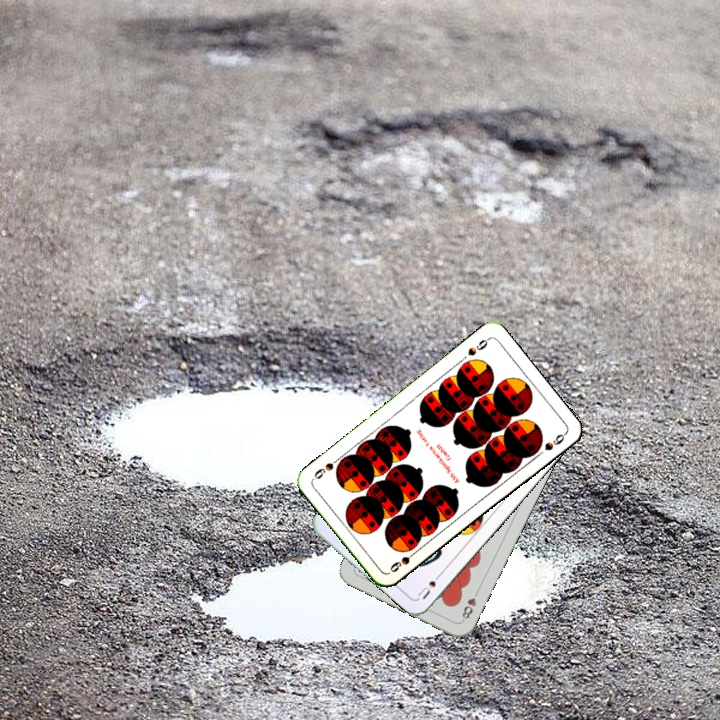H8: (458, 585, 482, 623)
S9: (386, 546, 420, 575), (464, 334, 492, 359)
SU: (414, 568, 445, 602)
